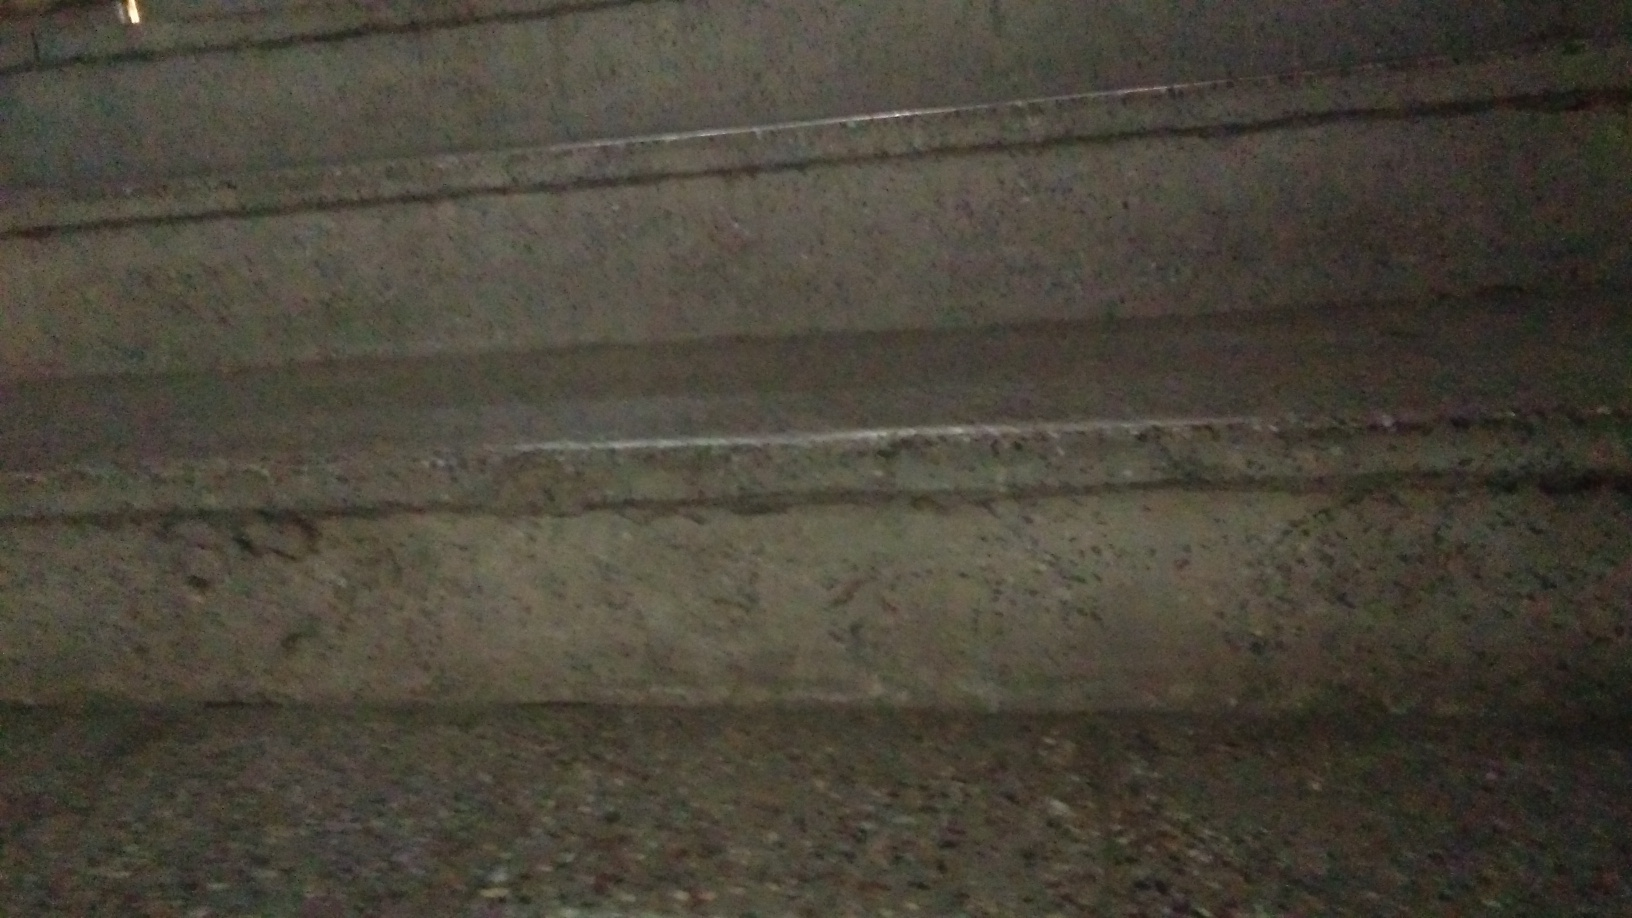stairs_up: (18, 25, 1632, 710)
